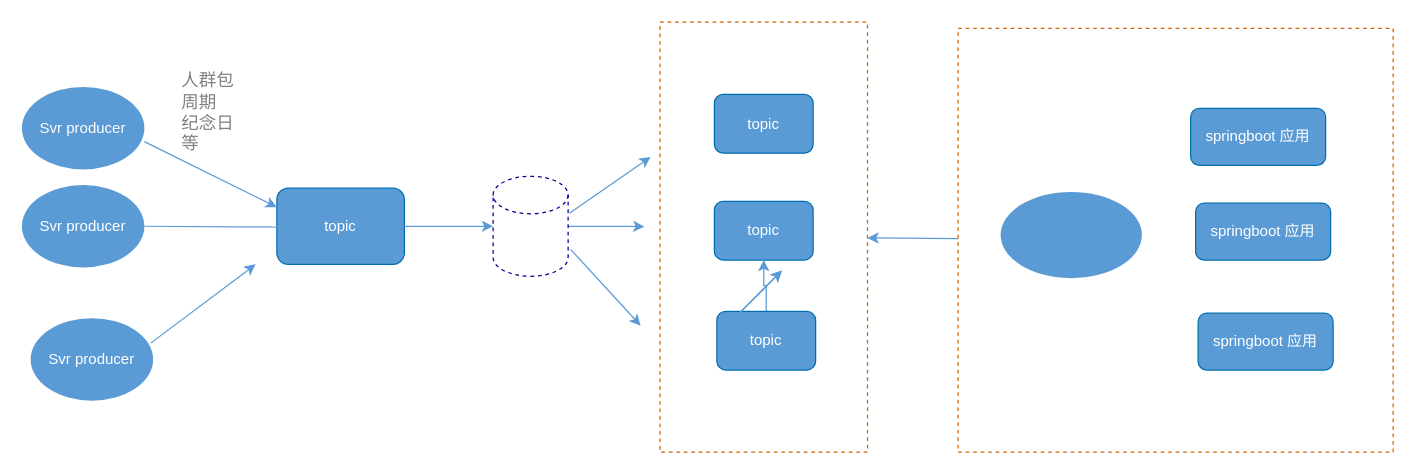
Some shapes in this 1415 by 474 pixel diagram are drawn without their labels. The shapes that lost their labels are listed below. From the top down, each one's box as (x1, y1, x2, y2) in pixels, then its label:
(492, 175, 568, 276): flink集群
(1000, 191, 1141, 278): consumer group
